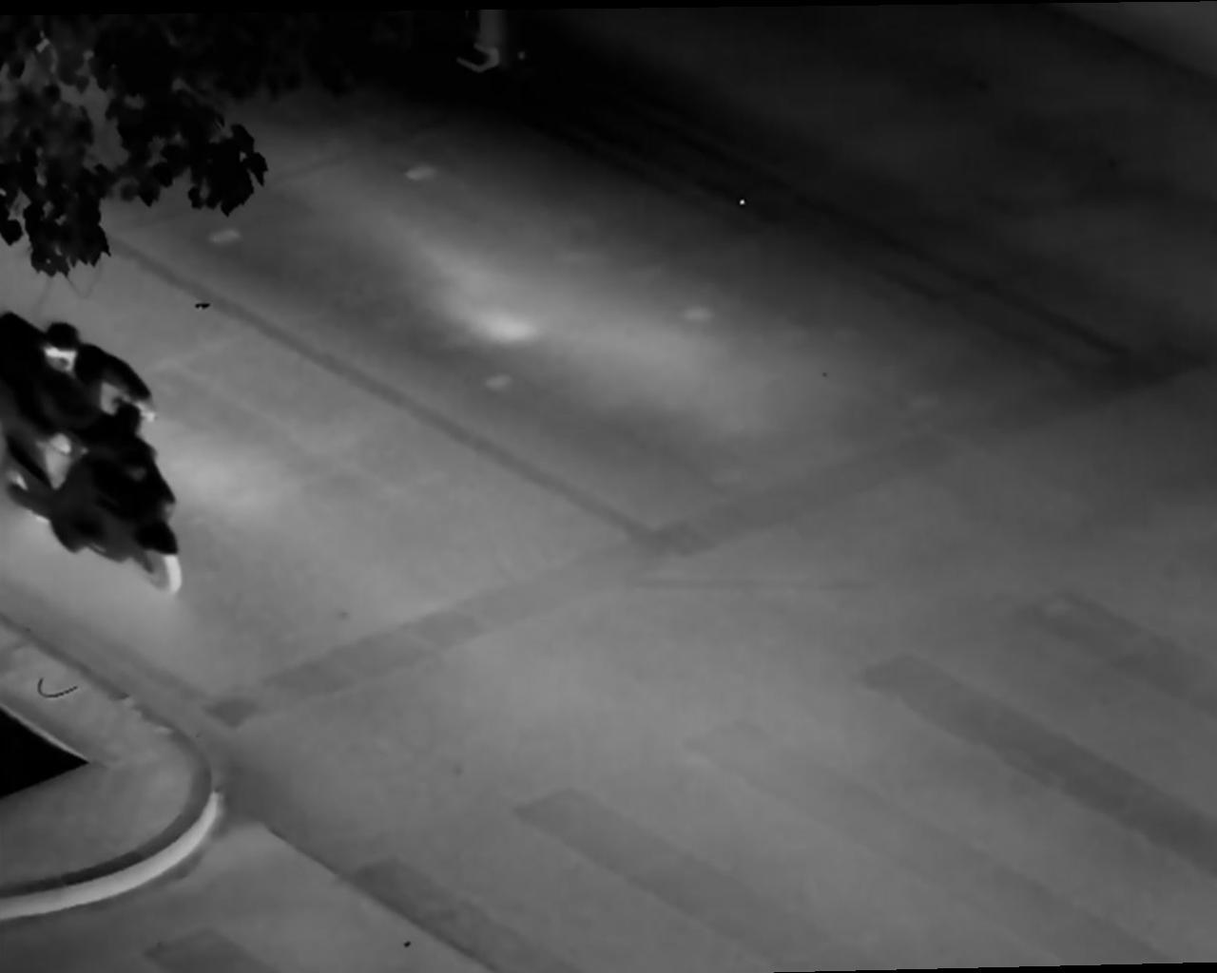person: (23, 318, 129, 551)
